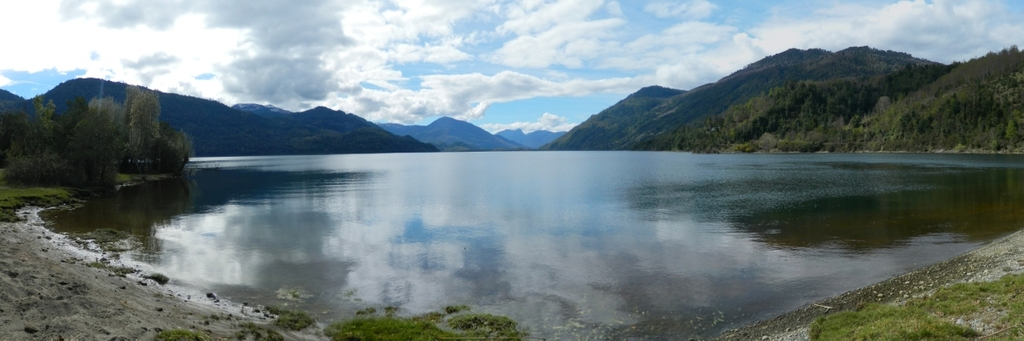Tree: (637, 51, 1024, 149), (0, 81, 192, 185)
